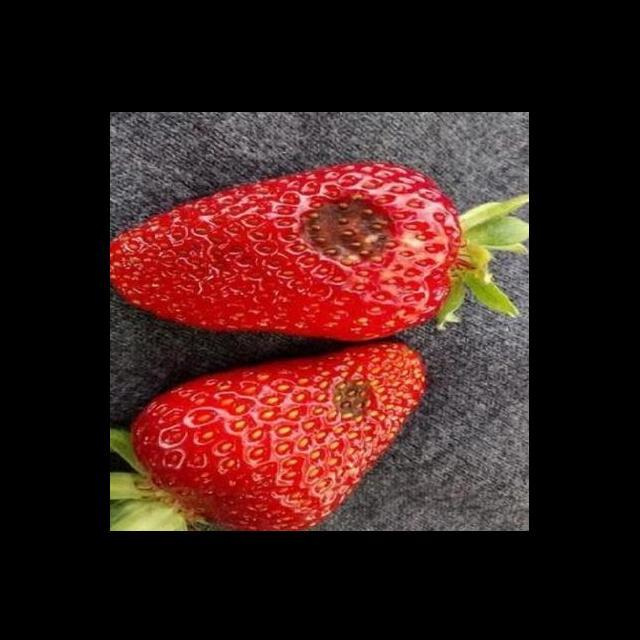Anthracnose Fruit Rot: (299, 186, 400, 270), (330, 373, 374, 429)
